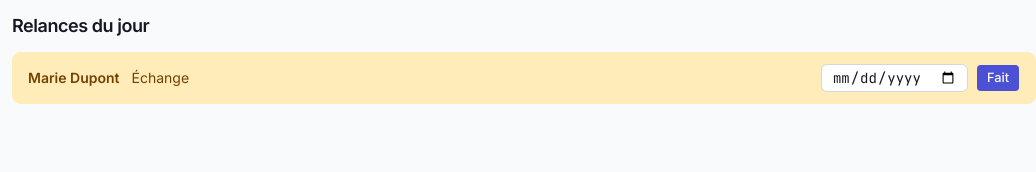
Test: DueFollowUps › affiche le refus renvoyé par l'action
Click the button "Fait": [998, 78] box [976,64,1020,92]
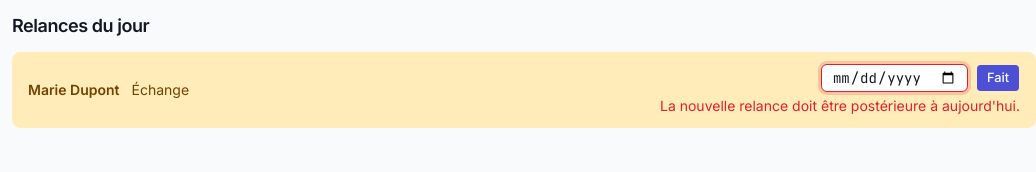
Now the message reads "La nouvelle relance doit être postérieure à aujourd'hui.", box [660,97,1020,114]
